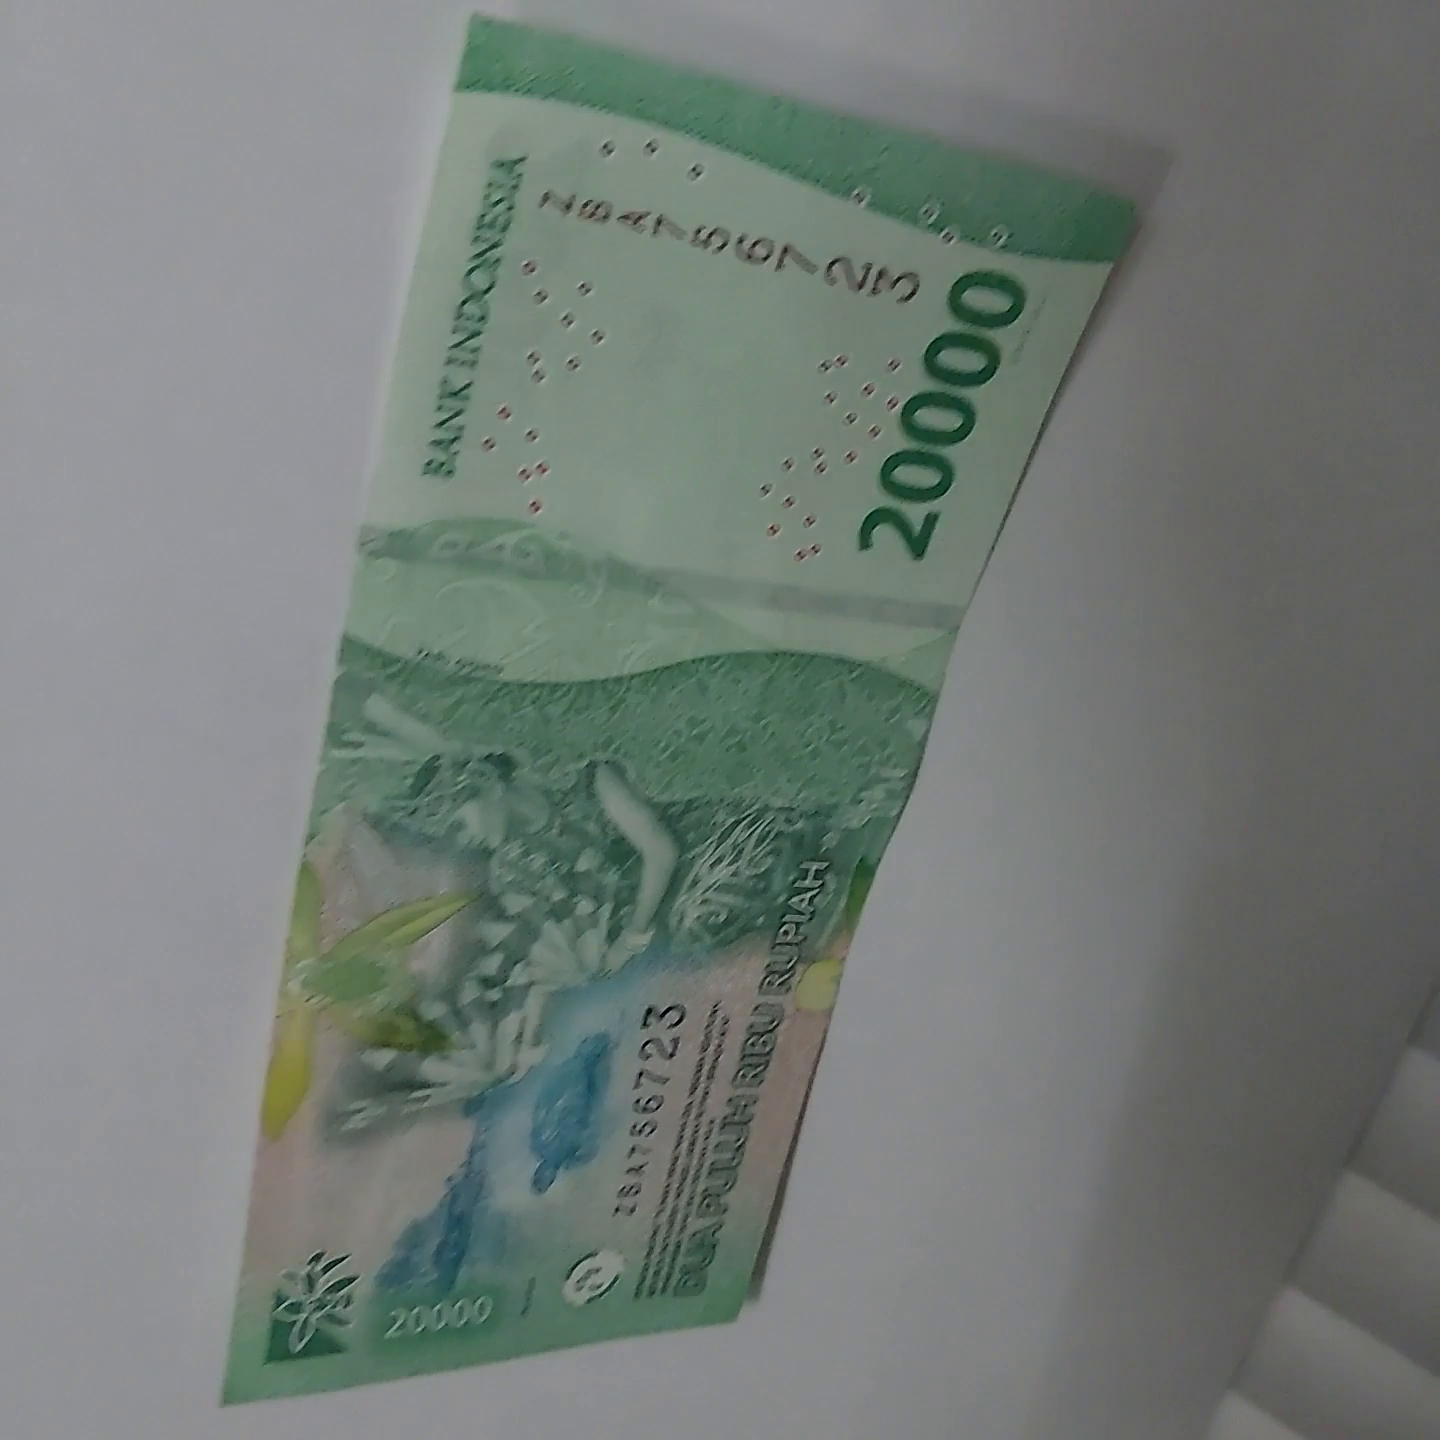20k: (198, 129, 1185, 1378)
